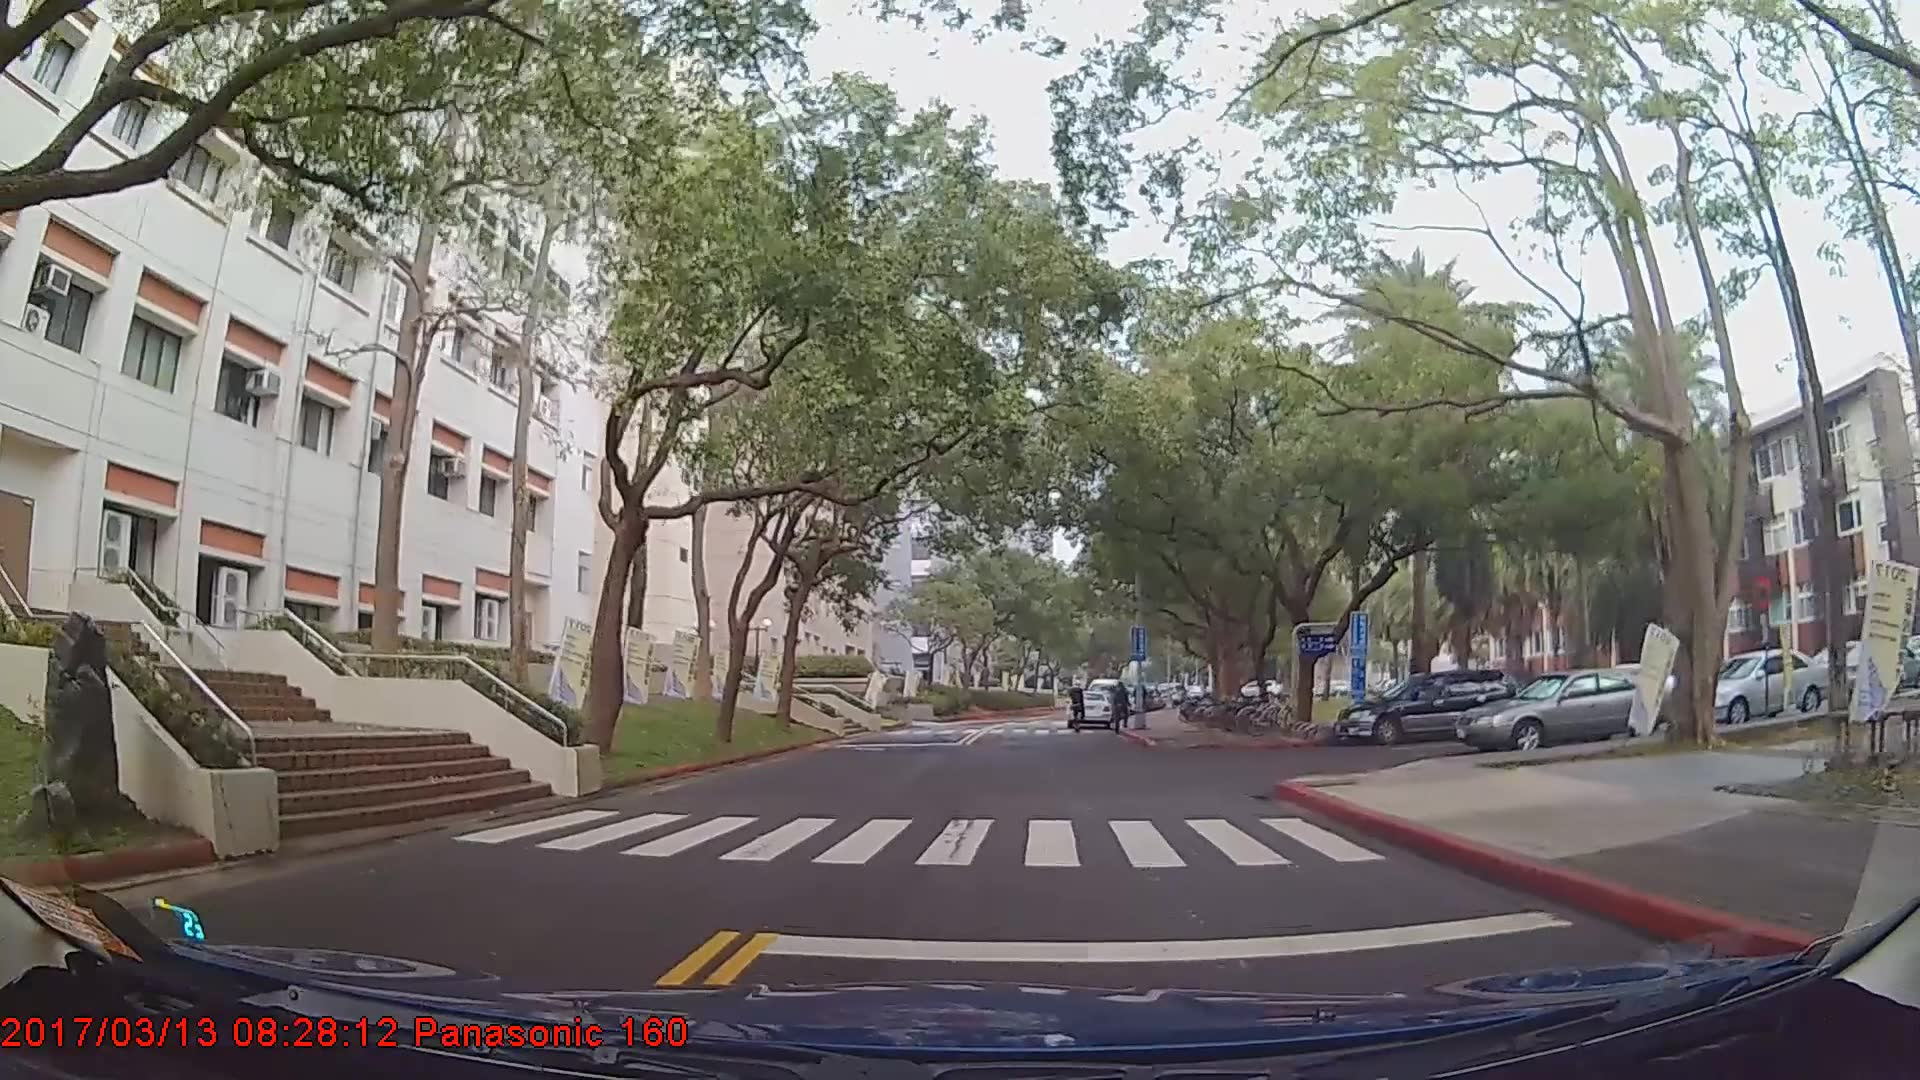pedestrian: (1112, 682, 1137, 733), (1071, 684, 1091, 736)
vehicle: (1456, 667, 1671, 756), (1332, 668, 1515, 749), (1693, 649, 1836, 726), (1065, 689, 1115, 730)
